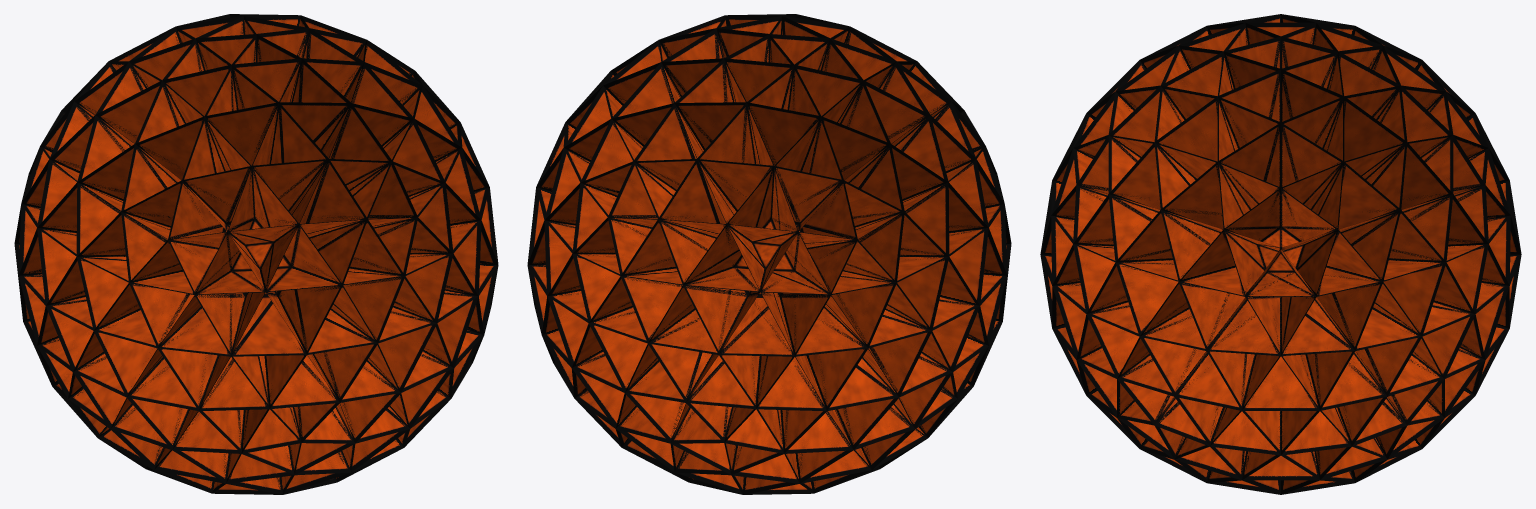
3 renders of one model, left to right at view 1: azimuth 30°, elevation 25°; view 2: azimuth 150°, elevation 25°; view 3: azimuth 270°, elevation 25°, orthographic.
Parts seen in each view (by area): view 1: ico-layer4-col.143, ico-layer4-col.151, ico-layer4-col.072, ico-layer4-col.205, ico-layer4-col.200, ico-layer4-col.215, ico-layer4-col.216, ico-layer4-col.067, ico-layer4-col.203, ico-layer4-col.070, ico-layer4-col.074, ico-layer4-col.068 (+131 smaller); view 2: ico-layer4-col.116, ico-layer4-col.042, ico-layer4-col.121, ico-layer4-col.044, ico-layer4-col.189, ico-layer4-col.113, ico-layer4-col.041, ico-layer4-col.018, ico-layer4-col.112, ico-layer4-col.040, ico-layer4-col.127, ico-layer4-col.118 (+135 smaller); view 3: ico-layer4-col.161, ico-layer4-col.165, ico-layer4-col, ico-layer4-col.102, ico-layer4-col.027, ico-layer4-col.231, ico-layer4-col.023, ico-layer4-col.230, ico-layer4-col.022, ico-layer4-col.234, ico-layer4-col.233, ico-layer4-col.235 (+130 smaller).
Part boxes in pixels (x1,y1,x2,y2): ico-layer4-col.143: (231, 295, 306, 408); ico-layer4-col.151: (277, 285, 377, 354); ico-layer4-col.072: (252, 102, 328, 210); ico-layer4-col.205: (127, 348, 219, 411); ico-layer4-col.200: (94, 283, 192, 348); ico-layer4-col.215: (343, 276, 436, 343); ico-layer4-col.216: (313, 343, 400, 402); ico-layer4-col.067: (205, 65, 278, 157); ico-layer4-col.203: (158, 293, 246, 356); ico-layer4-col.070: (279, 59, 351, 150); ico-layer4-col.074: (322, 103, 392, 190); ico-layer4-col.068: (182, 116, 251, 224); ico-layer4-col.116: (648, 285, 748, 354); ico-layer4-col.042: (697, 103, 773, 210); ico-layer4-col.121: (719, 295, 794, 408); ico-layer4-col.044: (774, 116, 843, 224); ico-layer4-col.189: (796, 307, 868, 410); ico-layer4-col.113: (648, 309, 718, 402); ico-layer4-col.041: (676, 102, 755, 164); ico-layer4-col.018: (800, 180, 904, 239); ico-layer4-col.112: (620, 268, 694, 343); ico-layer4-col.040: (747, 65, 821, 165); ico-layer4-col.127: (886, 256, 949, 330); ico-layer4-col.118: (683, 224, 765, 291); ico-layer4-col.161: (1116, 210, 1220, 281); ico-layer4-col.165: (1140, 282, 1244, 350); ico-layer4-col: (1115, 259, 1188, 336); ico-layer4-col.102: (1373, 259, 1446, 335); ico-layer4-col.027: (1324, 96, 1406, 178); ico-layer4-col.231: (1175, 351, 1255, 410); ico-layer4-col.023: (1281, 123, 1343, 209); ico-layer4-col.230: (1207, 297, 1280, 355); ico-layer4-col.022: (1281, 69, 1343, 148); ico-layer4-col.234: (1208, 301, 1280, 410); ico-layer4-col.233: (1281, 297, 1354, 355); ico-layer4-col.235: (1242, 354, 1319, 410).
Size of the model in its own units: 19.9 by 19.9 by 19.9.
1 material, 1 textured.
